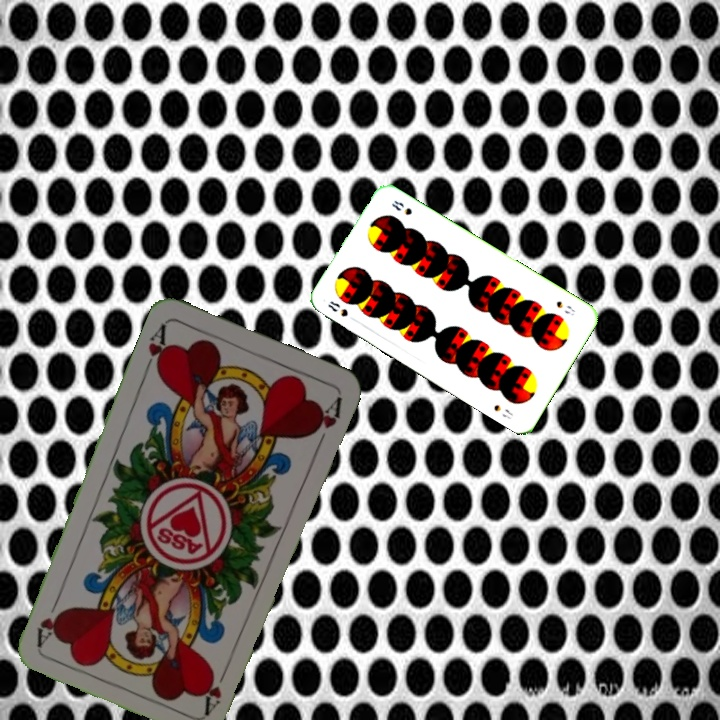HA: (199, 660, 233, 716), (139, 320, 172, 376)
S8: (324, 297, 351, 319), (552, 297, 577, 318)
